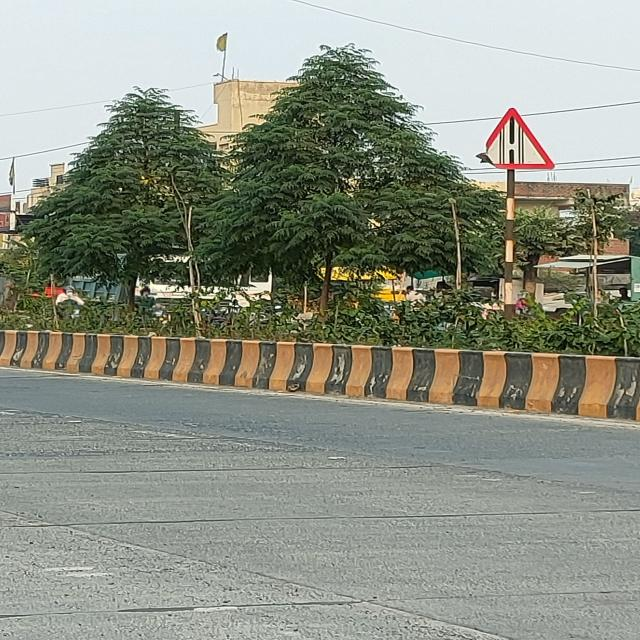ferry: (477, 106, 556, 168)
